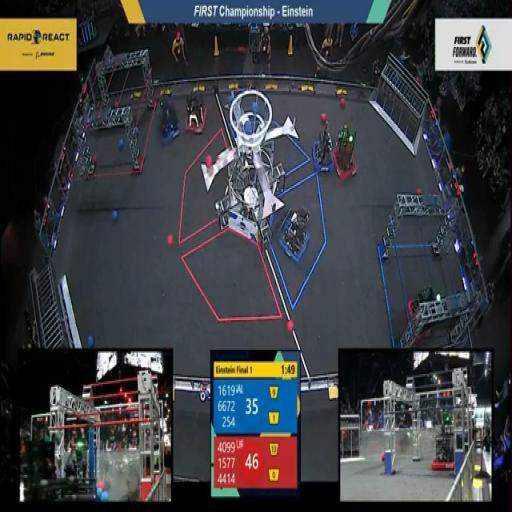robot: (277, 202, 313, 266), (405, 283, 441, 340), (332, 120, 359, 182), (156, 94, 181, 146), (312, 120, 336, 174), (183, 88, 208, 138)
